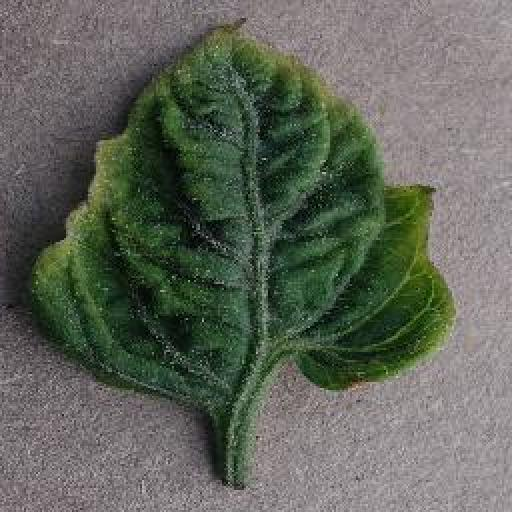Yellow Leaf Curl Virus: (35, 19, 455, 404)
